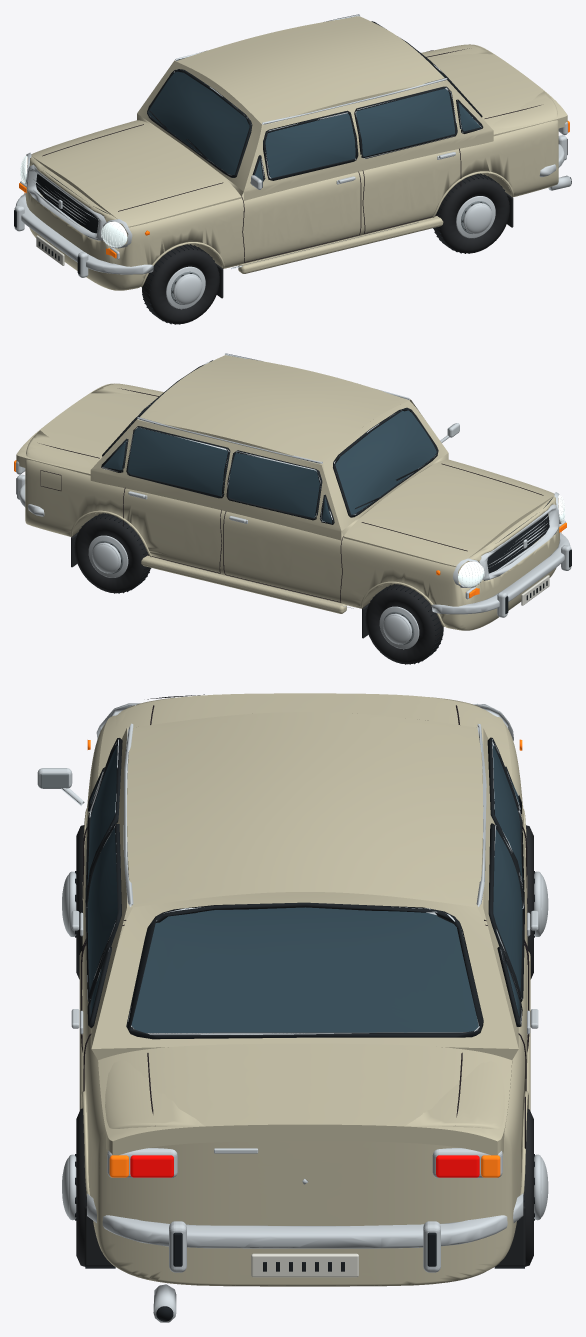
File: kopeyka.glb
The picture shows the model from 3 angles, top to bottom: view 1: azimuth 30°, elevation 25°; view 2: azimuth 150°, elevation 25°; view 3: azimuth 270°, elevation 25°; orthographic projection. The views are drawn at different scales.
Parts seen in each view (by area): view 1: Body_Paint_kopeyka, Body_Curved smoked glass, Body_Black trim, Body_Machined aluminium, Wheel_FR_Tyre, Wheel_RR_Tyre, StockBumpers_Machined aluminium, StockSkirts_Paint_kopeyka, Wheel_RR_Machined aluminium, Wheel_FR_Machined aluminium, Body_Panel seams, Body_Prismatic headlight glass (+1 smaller); view 2: Body_Paint_kopeyka, Body_Curved smoked glass, Body_Black trim, Wheel_FL_Tyre, Body_Machined aluminium, Wheel_RL_Tyre, StockBumpers_Machined aluminium, StockSkirts_Paint_kopeyka, Wheel_FL_Machined aluminium, Wheel_RL_Machined aluminium, Body_Panel seams, Body_Prismatic headlight glass (+1 smaller); view 3: Body_Paint_kopeyka, Body_Curved smoked glass, Body_Black trim, StockBumpers_Machined aluminium, Body_Machined aluminium, Body_Numberplate, Body_Red lens, Body_Tyre, Wheel_RR_Tyre, Wheel_RL_Tyre, Body_Panel seams, StockFenders_Paint_kopeyka (+6 smaller).
Part boxes in pixels (box(x1,y1,x2,y2)): Body_Paint_kopeyka: box(25, 16, 567, 290); Body_Curved smoked glass: box(149, 70, 480, 180); Body_Black trim: box(36, 21, 571, 260); Body_Machined aluminium: box(20, 14, 571, 269); Wheel_FR_Tyre: box(142, 244, 219, 324); Wheel_RR_Tyre: box(434, 174, 509, 253); StockBumpers_Machined aluminium: box(14, 135, 566, 277); StockSkirts_Paint_kopeyka: box(238, 216, 443, 273); Wheel_RR_Machined aluminium: box(456, 196, 495, 238); Wheel_FR_Machined aluminium: box(166, 266, 205, 309); Body_Panel seams: box(42, 48, 540, 262); Body_Prismatic headlight glass: box(20, 155, 127, 247); Body_Paint_kopeyka: box(16, 355, 559, 630); Body_Curved smoked glass: box(104, 410, 436, 523); Body_Black trim: box(101, 360, 552, 600); Wheel_FL_Tyre: box(365, 584, 443, 664); Body_Machined aluminium: box(16, 353, 565, 608); Wheel_RL_Tyre: box(74, 513, 150, 593); StockBumpers_Machined aluminium: box(17, 474, 571, 617); StockSkirts_Paint_kopeyka: box(141, 555, 346, 613); Wheel_FL_Machined aluminium: box(379, 606, 419, 649); Wheel_RL_Machined aluminium: box(88, 535, 128, 577); Body_Panel seams: box(39, 388, 543, 602); Body_Prismatic headlight glass: box(458, 495, 565, 587); Body_Paint_kopeyka: box(82, 693, 527, 1286); Body_Curved smoked glass: box(87, 741, 522, 1032); Body_Black trim: box(85, 694, 524, 1321); StockBumpers_Machined aluminium: box(87, 806, 523, 1272); Body_Machined aluminium: box(37, 703, 538, 1322); Body_Numberplate: box(251, 1253, 358, 1277); Body_Red lens: box(130, 1155, 479, 1177); Body_Tyre: box(84, 1206, 525, 1266); Wheel_RR_Tyre: box(76, 1108, 113, 1267); Wheel_RL_Tyre: box(497, 1108, 533, 1267); Body_Panel seams: box(81, 705, 529, 1148); StockFenders_Paint_kopeyka: box(81, 808, 528, 1195).
Size of the model in its own units: 4.08 by 1.44 by 1.85.
